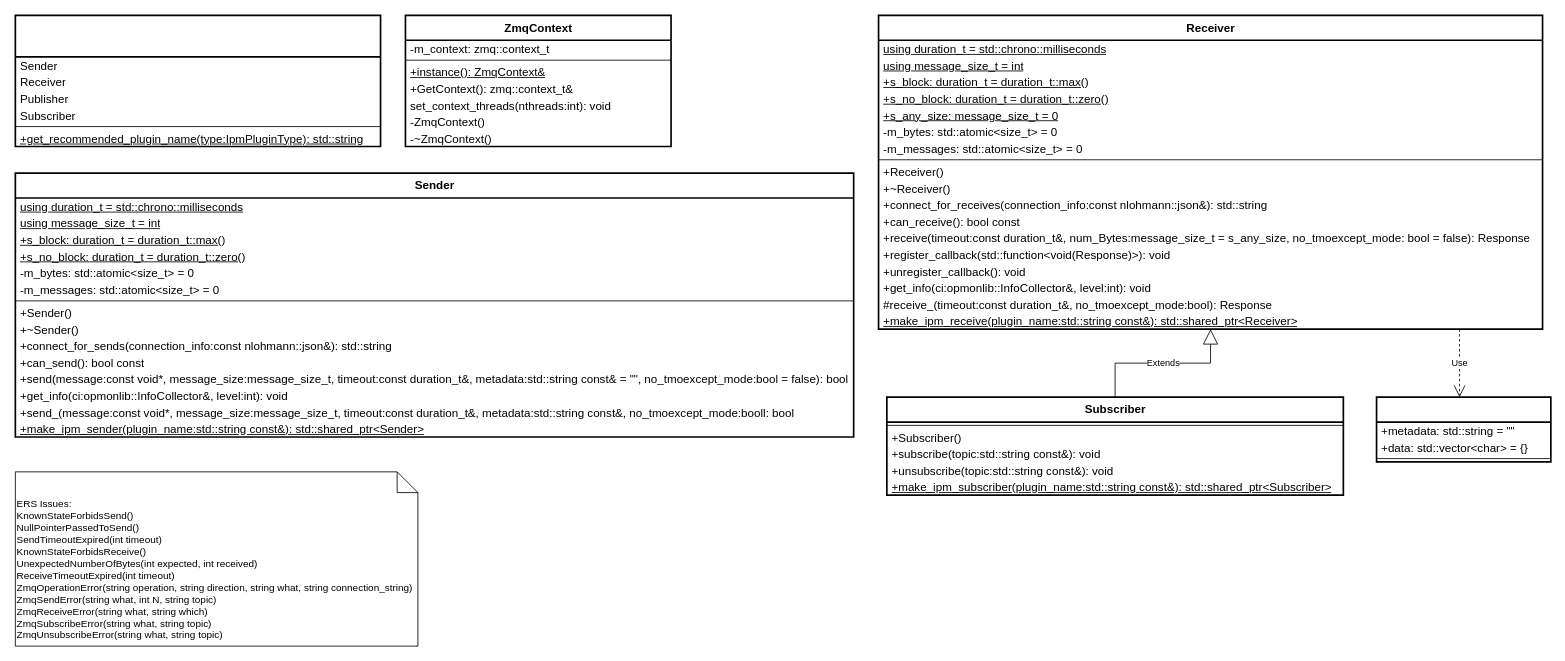
This 1565x661 diagram has some shape labels left out. Each missing label, with the box of its shape:
<<enumeration>> IpmPluginType: (14, 14, 381, 147)
Receiver::Response: (1375, 396, 1551, 462)
